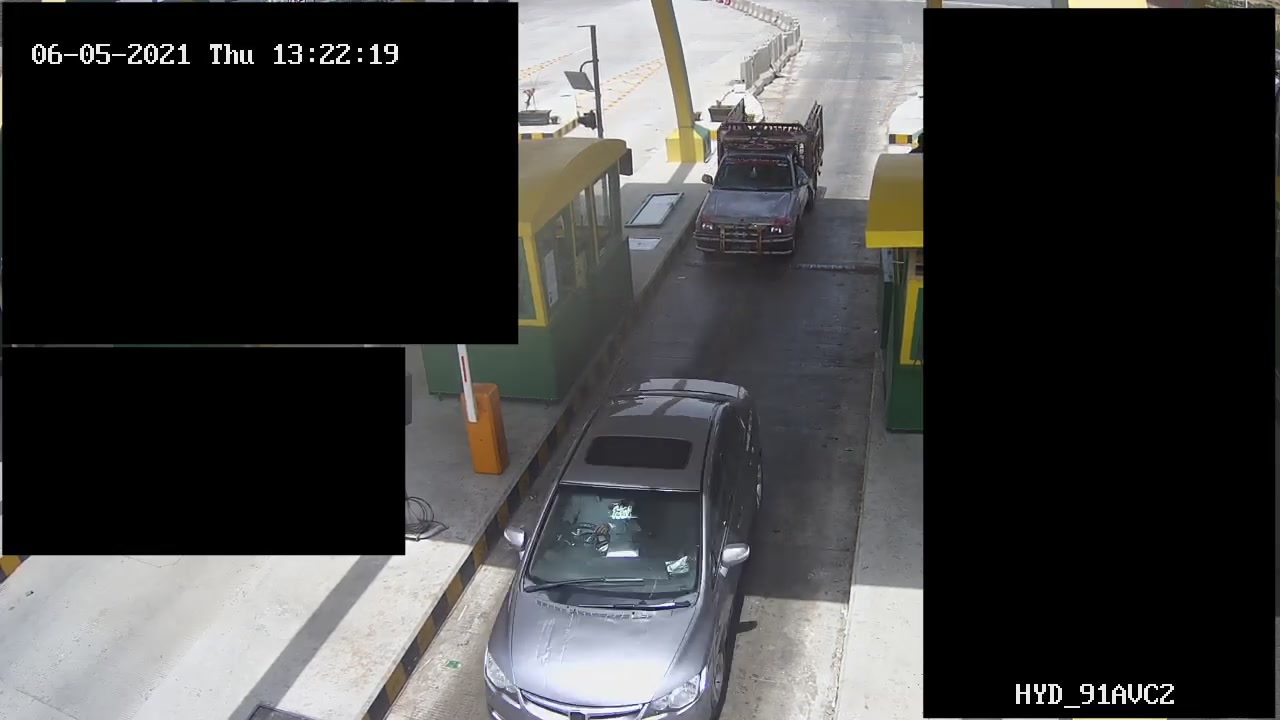F1: (687, 93, 835, 267)
